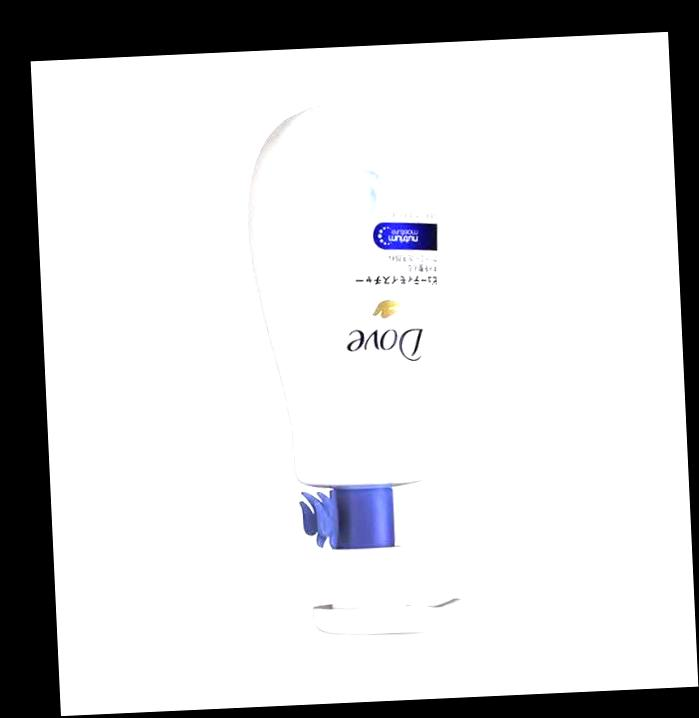cosmetic: (237, 92, 480, 644)
